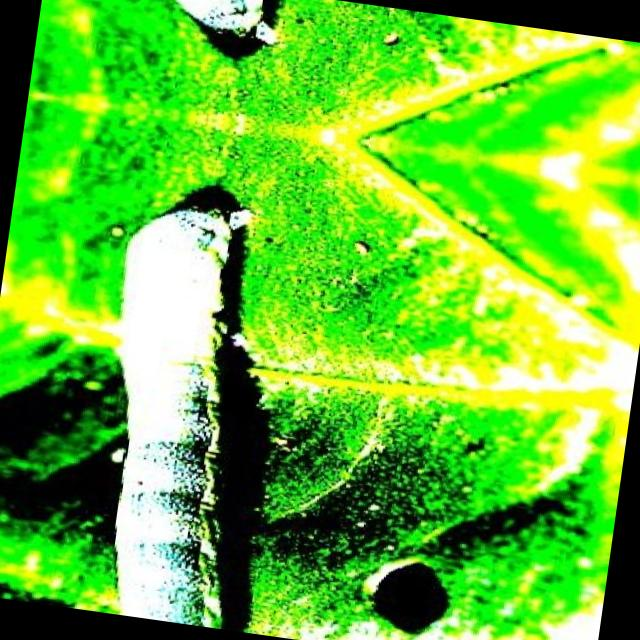Armyworm: (73, 177, 314, 634), (130, 1, 288, 73)
